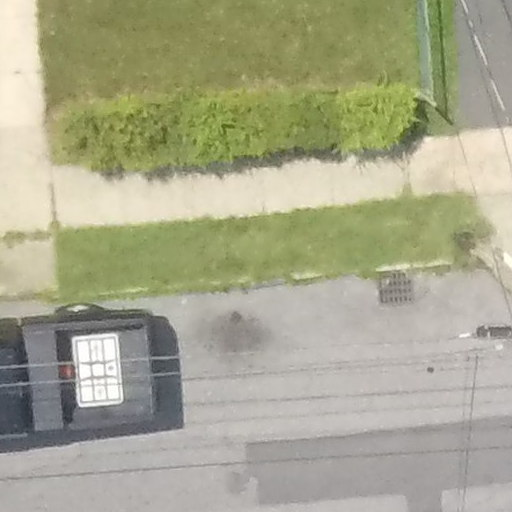car: (1, 291, 174, 455)
drain: (372, 257, 423, 310)
fence: (400, 1, 445, 121)
